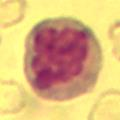lymphocyte: (18, 12, 105, 102)
